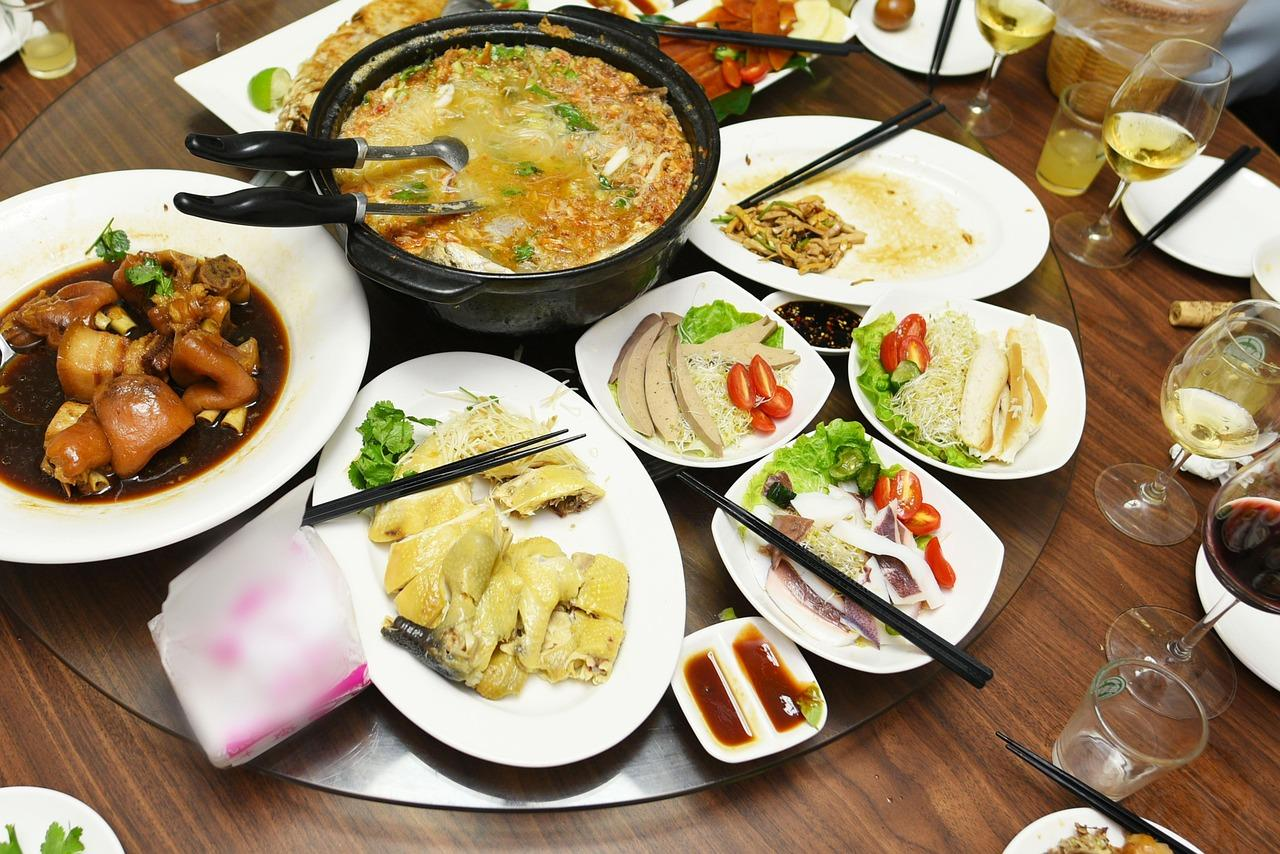Braised Crucian Carp: (305, 353, 664, 764), (1, 172, 372, 552), (293, 9, 681, 335), (704, 413, 1013, 685), (707, 116, 1044, 308), (570, 268, 839, 457), (837, 299, 1090, 480)
